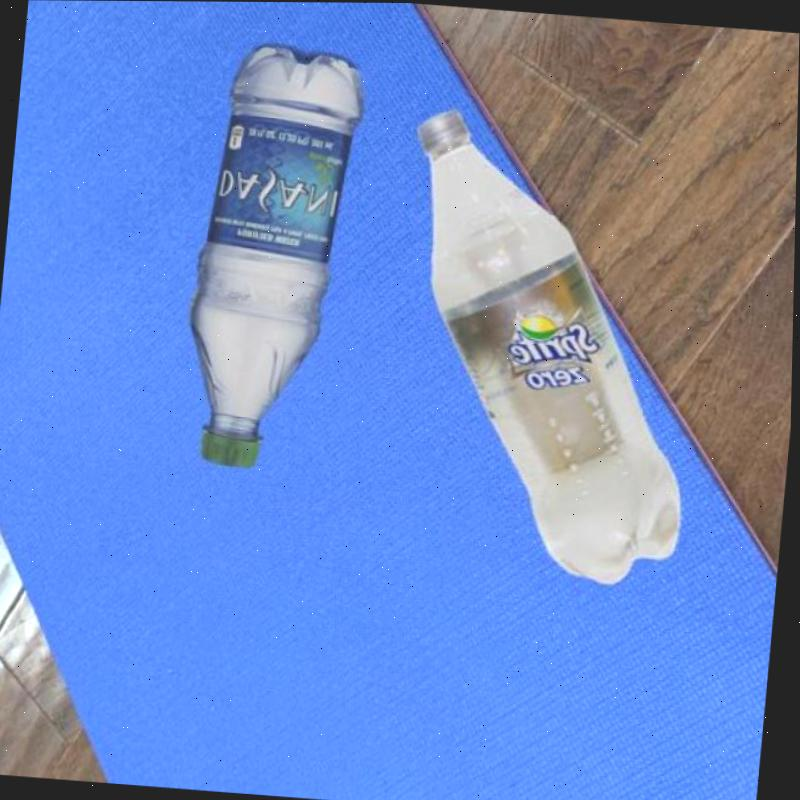botella: (374, 101, 718, 591), (178, 39, 364, 474)
